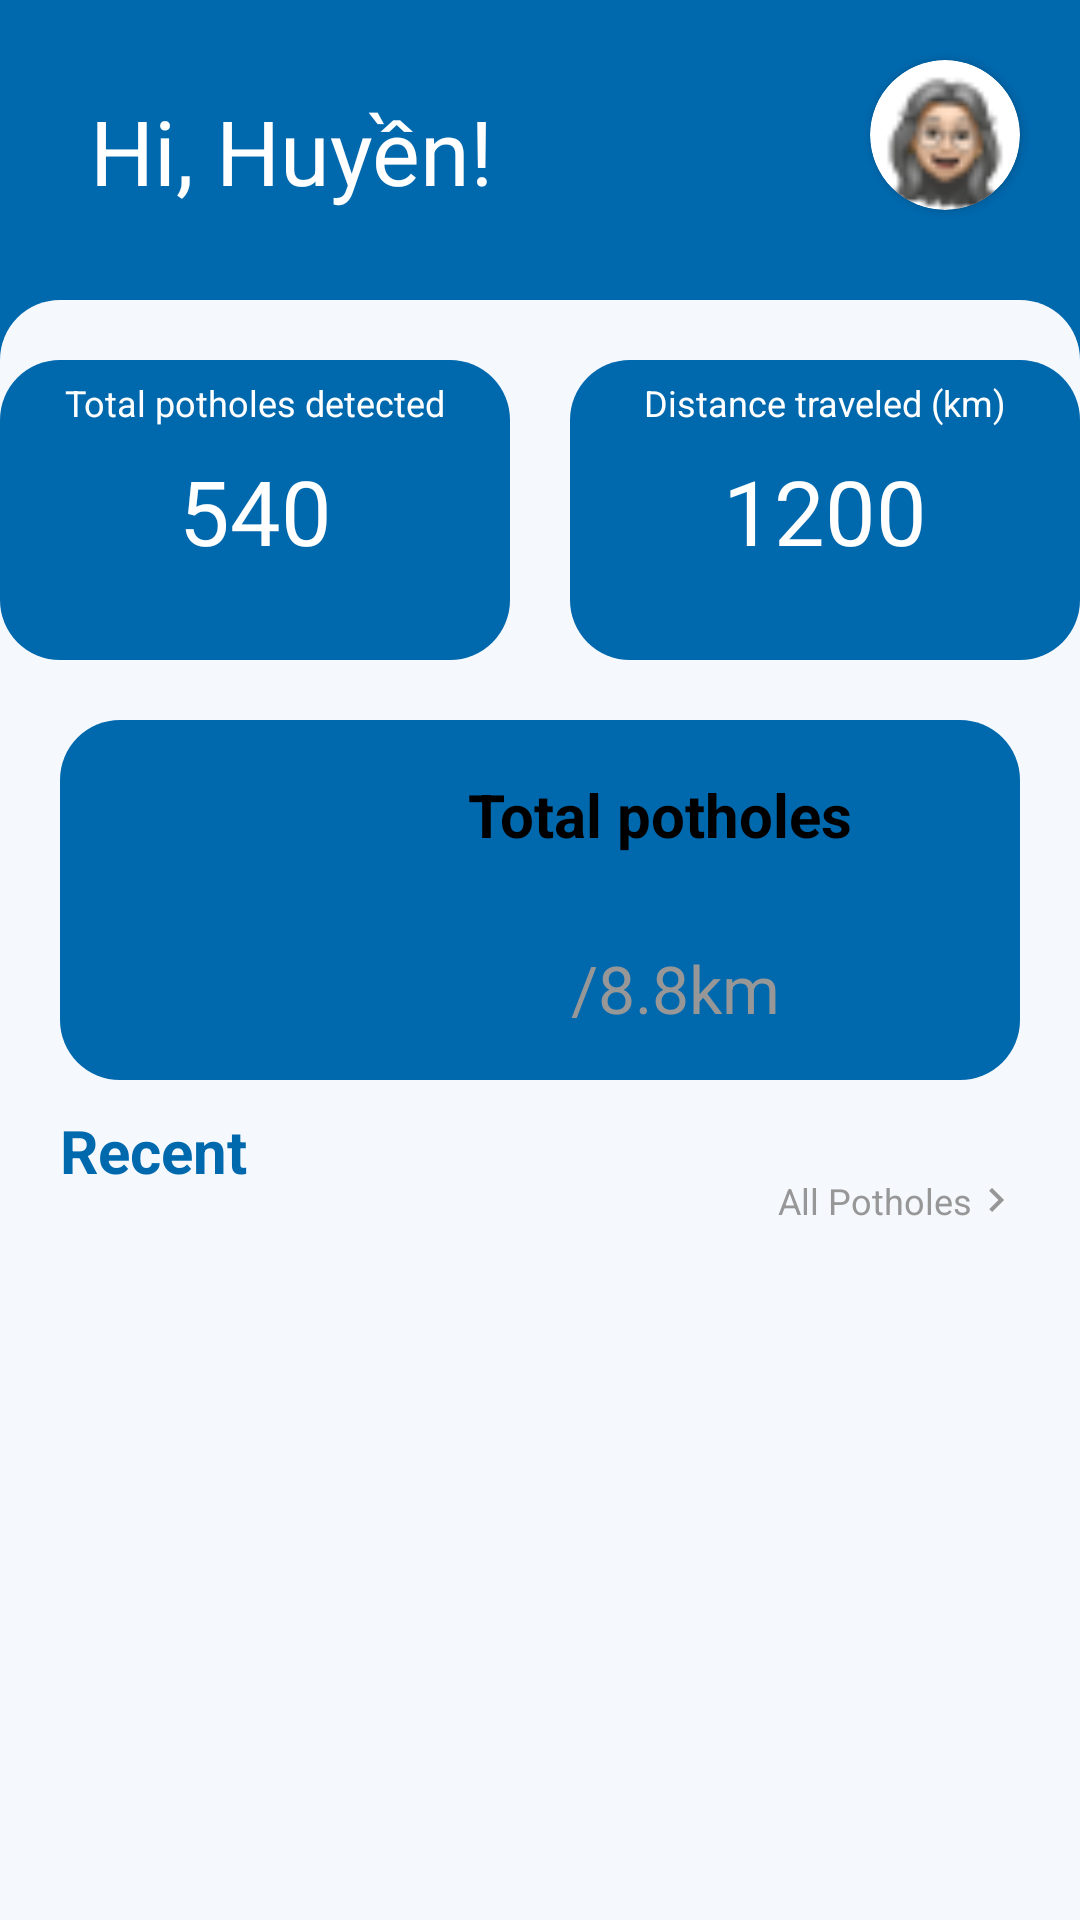

Icon bounding boxes for this 1080px x 1920px phone screenshot, format (x1, y1, x2, y2):
user: (870, 60, 1020, 210)
